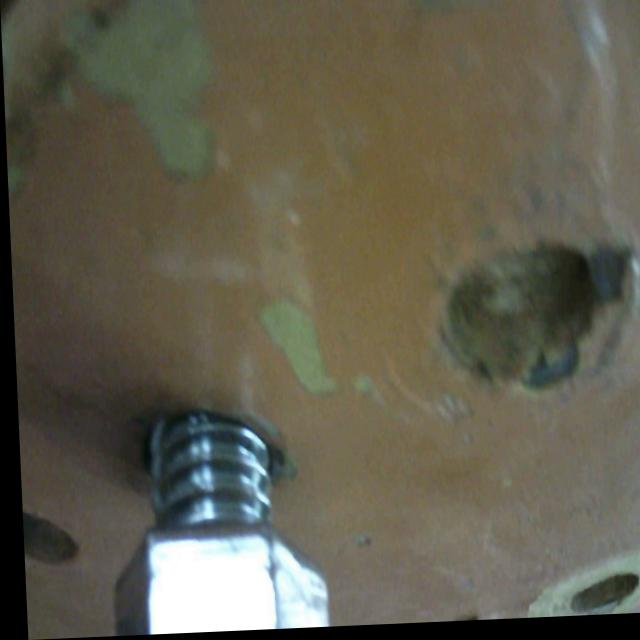Loose bolt: (105, 408, 325, 638)
Missing bolt: (442, 230, 632, 406), (18, 487, 80, 576), (562, 573, 635, 622)
Regular bolt: (99, 412, 323, 638)
